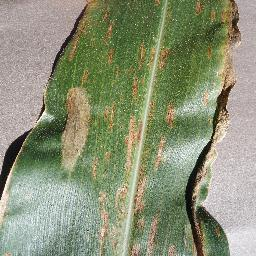Gray_Leaf_Spot: (195, 0, 249, 155), (96, 189, 158, 256), (183, 153, 223, 256), (57, 79, 98, 174), (65, 0, 99, 62), (0, 150, 19, 220), (99, 4, 120, 64), (126, 112, 149, 164), (136, 36, 173, 68), (119, 165, 151, 188), (127, 70, 145, 107), (162, 99, 180, 134), (104, 102, 119, 132), (154, 137, 166, 171), (166, 244, 180, 256), (78, 68, 93, 79), (103, 150, 114, 164), (155, 0, 166, 9), (1, 250, 16, 256)
